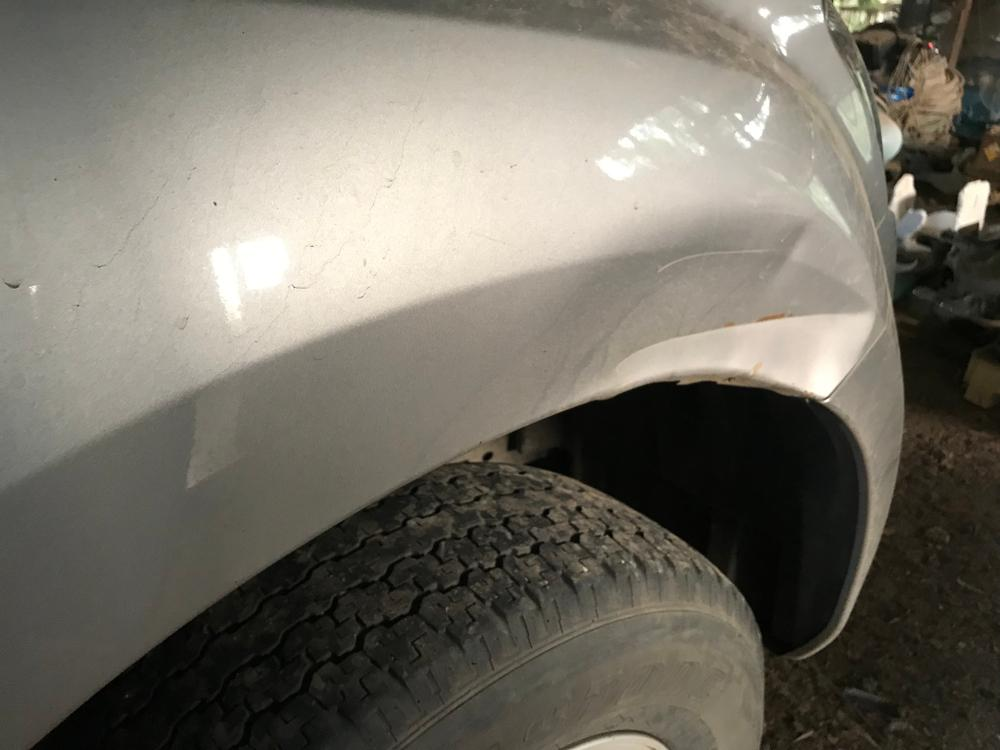dent: (530, 216, 876, 411)
